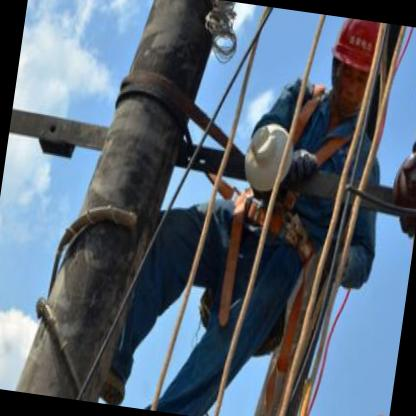helmet: (322, 17, 391, 125)
